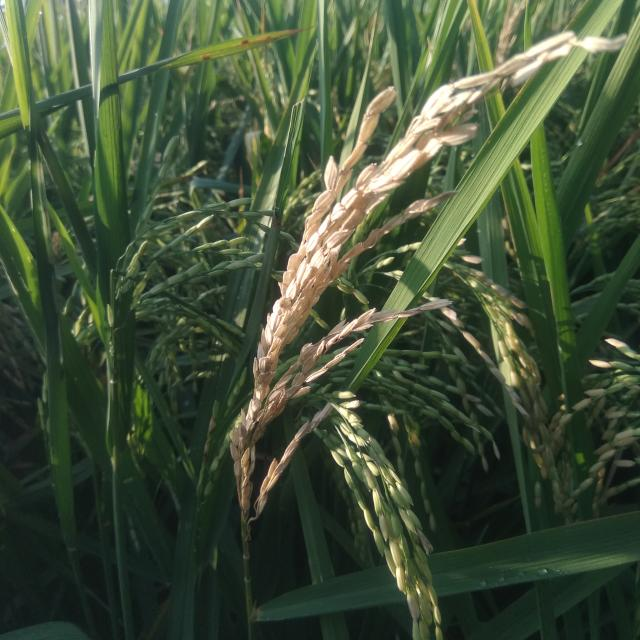insects: (258, 35, 280, 45), (238, 38, 252, 48), (197, 54, 214, 62)
